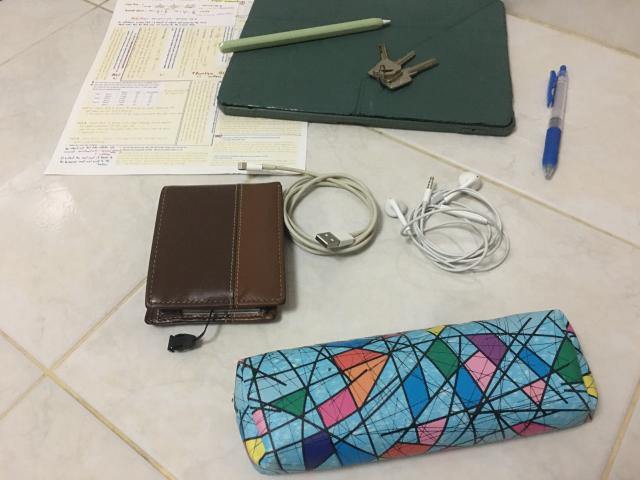Keys: (368, 44, 439, 90)
Pen: (542, 65, 568, 179)
Wallet: (145, 181, 285, 325)
paper: (45, 0, 317, 175)
wire: (238, 162, 379, 255), (385, 171, 510, 272)
